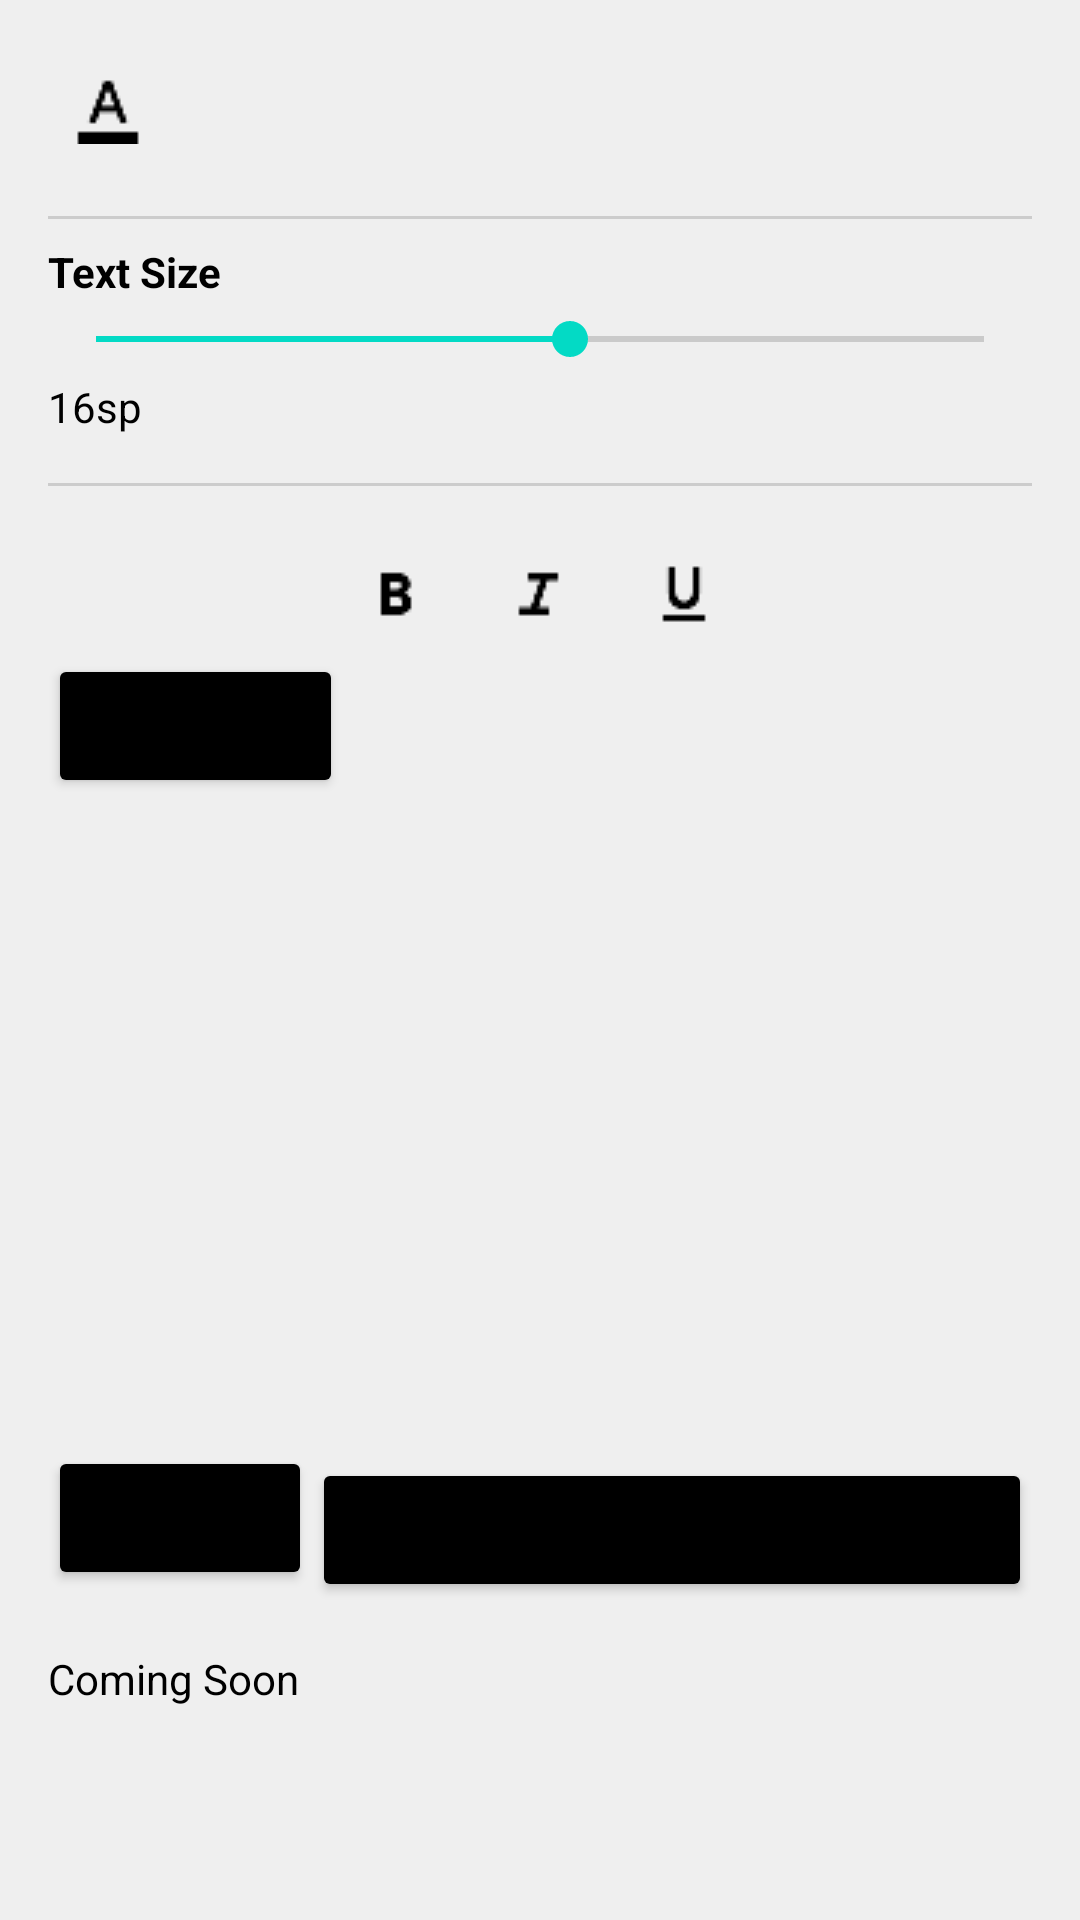

Screen size 1080w x 1920h. Icon name, then its center in pixels as (x=x, y=y):
format italic: (x=538, y=594)
format underlined: (x=684, y=594)
text format: (x=108, y=112)
